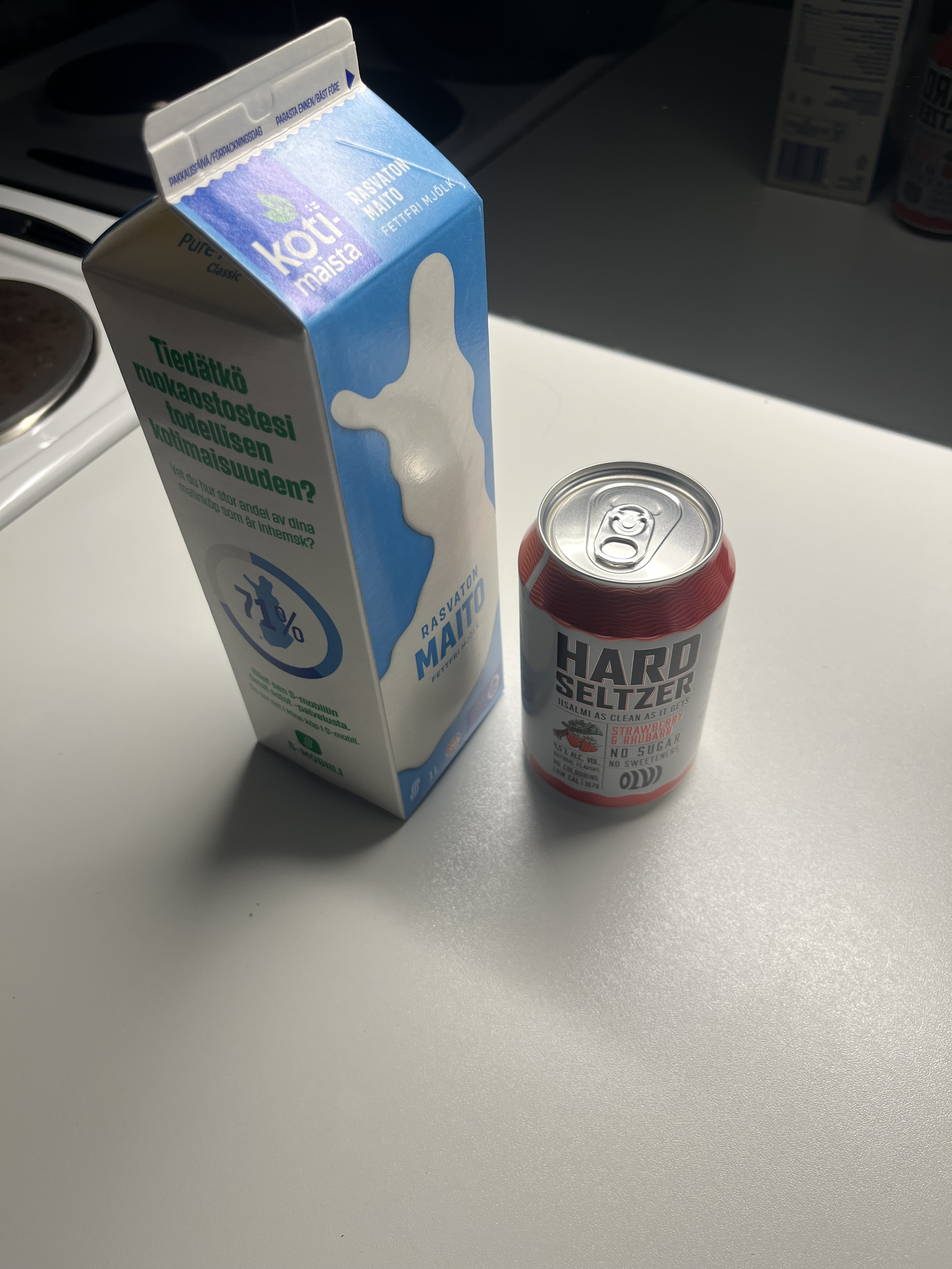Dryckeskartong: (41, 19, 514, 819)
Pantburk: (516, 454, 748, 821)
